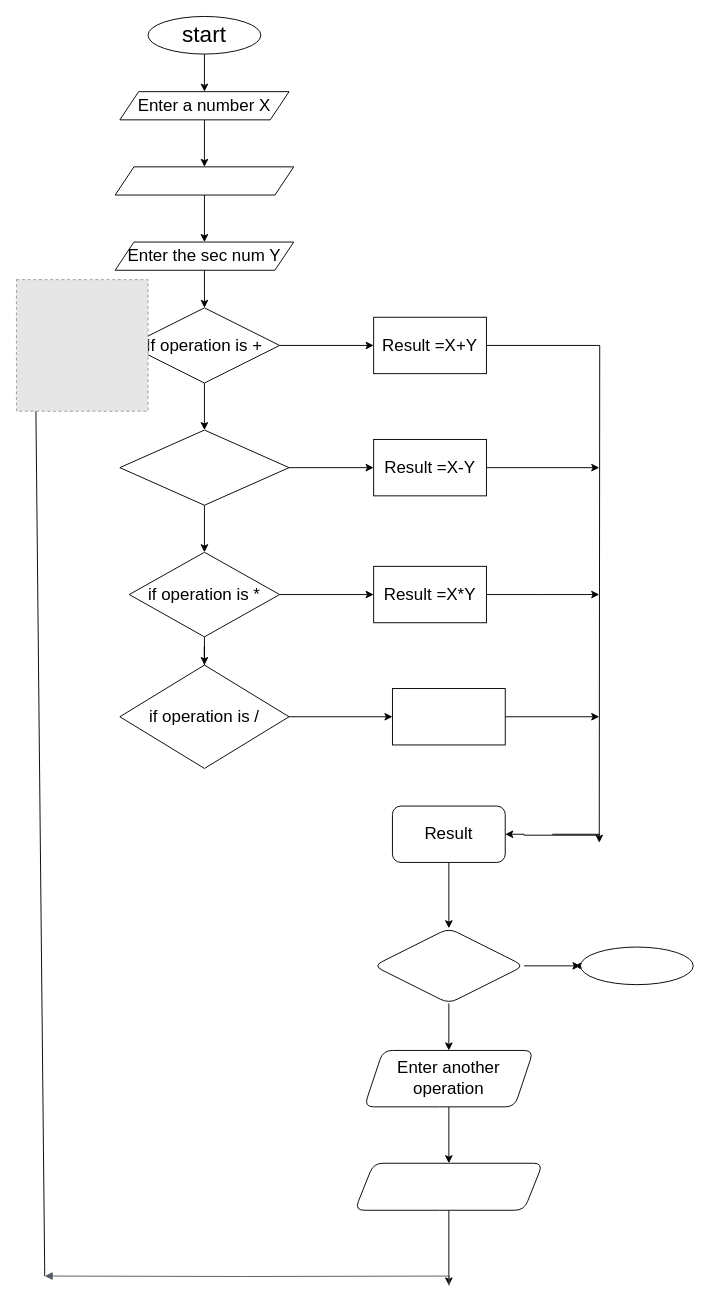
The diagram is 710 pixels wide and 1309 high, and some of its shapes have lost their labels. Grey dashed boxes stand in for pictures. Here are the shapes that lost their labels. From the top down, the centre of each, then its label:
At point 204,180: "Enter an operation".
At point 204,467: "if operation is -".
At point 448,716: "Result = x/y".
At point 448,965: "If operation is exit".
At point 636,965: "End".
At point 448,1186: "Enter another num".
